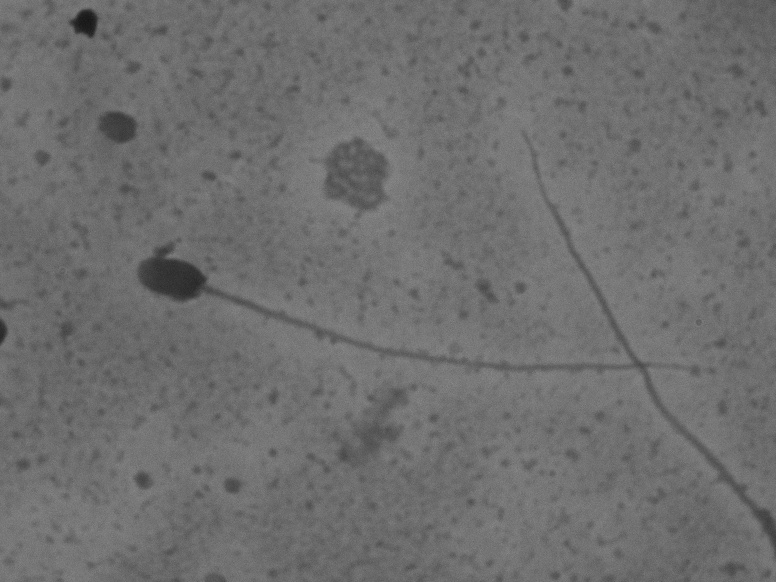Abnormal: (123, 235, 713, 399)
